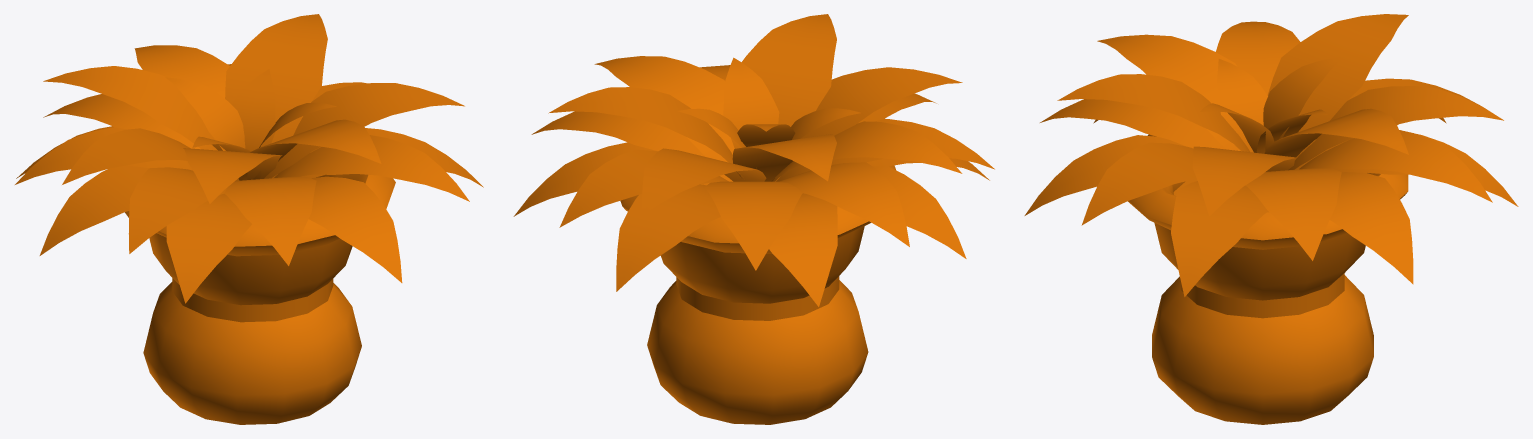
File: SM_Plants003.fbx
3 views of the same model, side by side, from view 1: azimuth 30°, elevation 25°; view 2: azimuth 150°, elevation 25°; view 3: azimuth 270°, elevation 25° (orthographic). The views are drawn at different scales.
Visible parts, largest first — view 1: SM_Plants003; view 2: SM_Plants003; view 3: SM_Plants003.
Part boxes in pixels (left/top/right/bottom): SM_Plants003: left=15, top=14, right=483, bottom=424; SM_Plants003: left=513, top=14, right=994, bottom=424; SM_Plants003: left=1024, top=14, right=1518, bottom=424.
Size of the model in its own units: 178 by 123 by 179.
